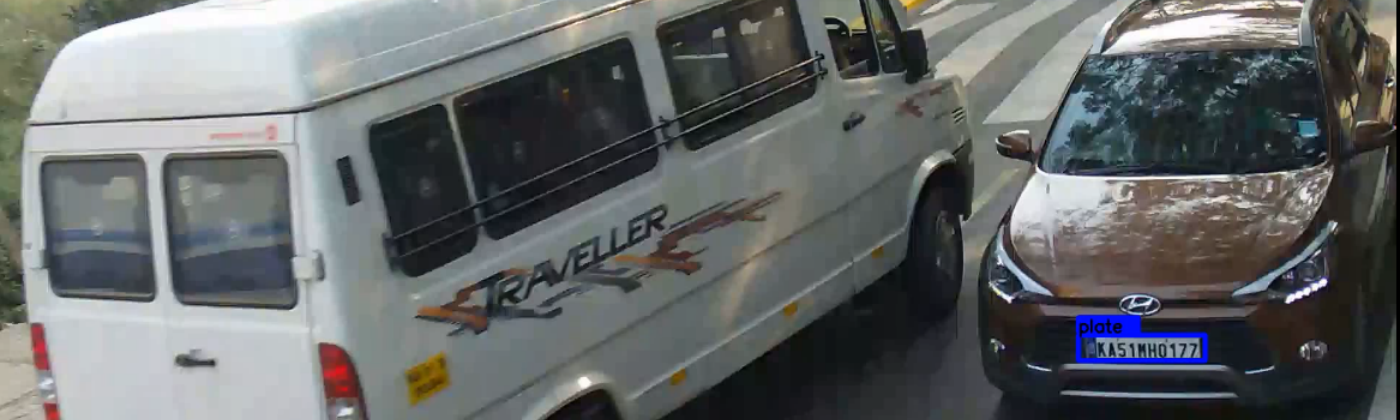number_plate: (1079, 327, 1211, 365)
